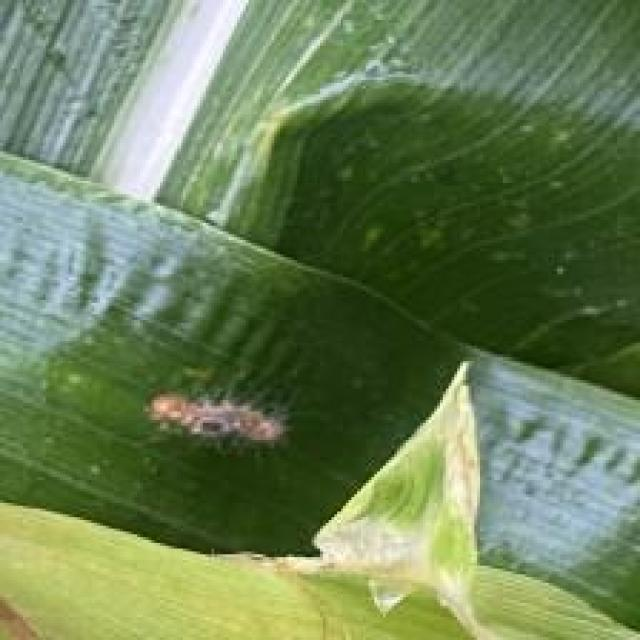Plaga: (121, 391, 324, 468)
